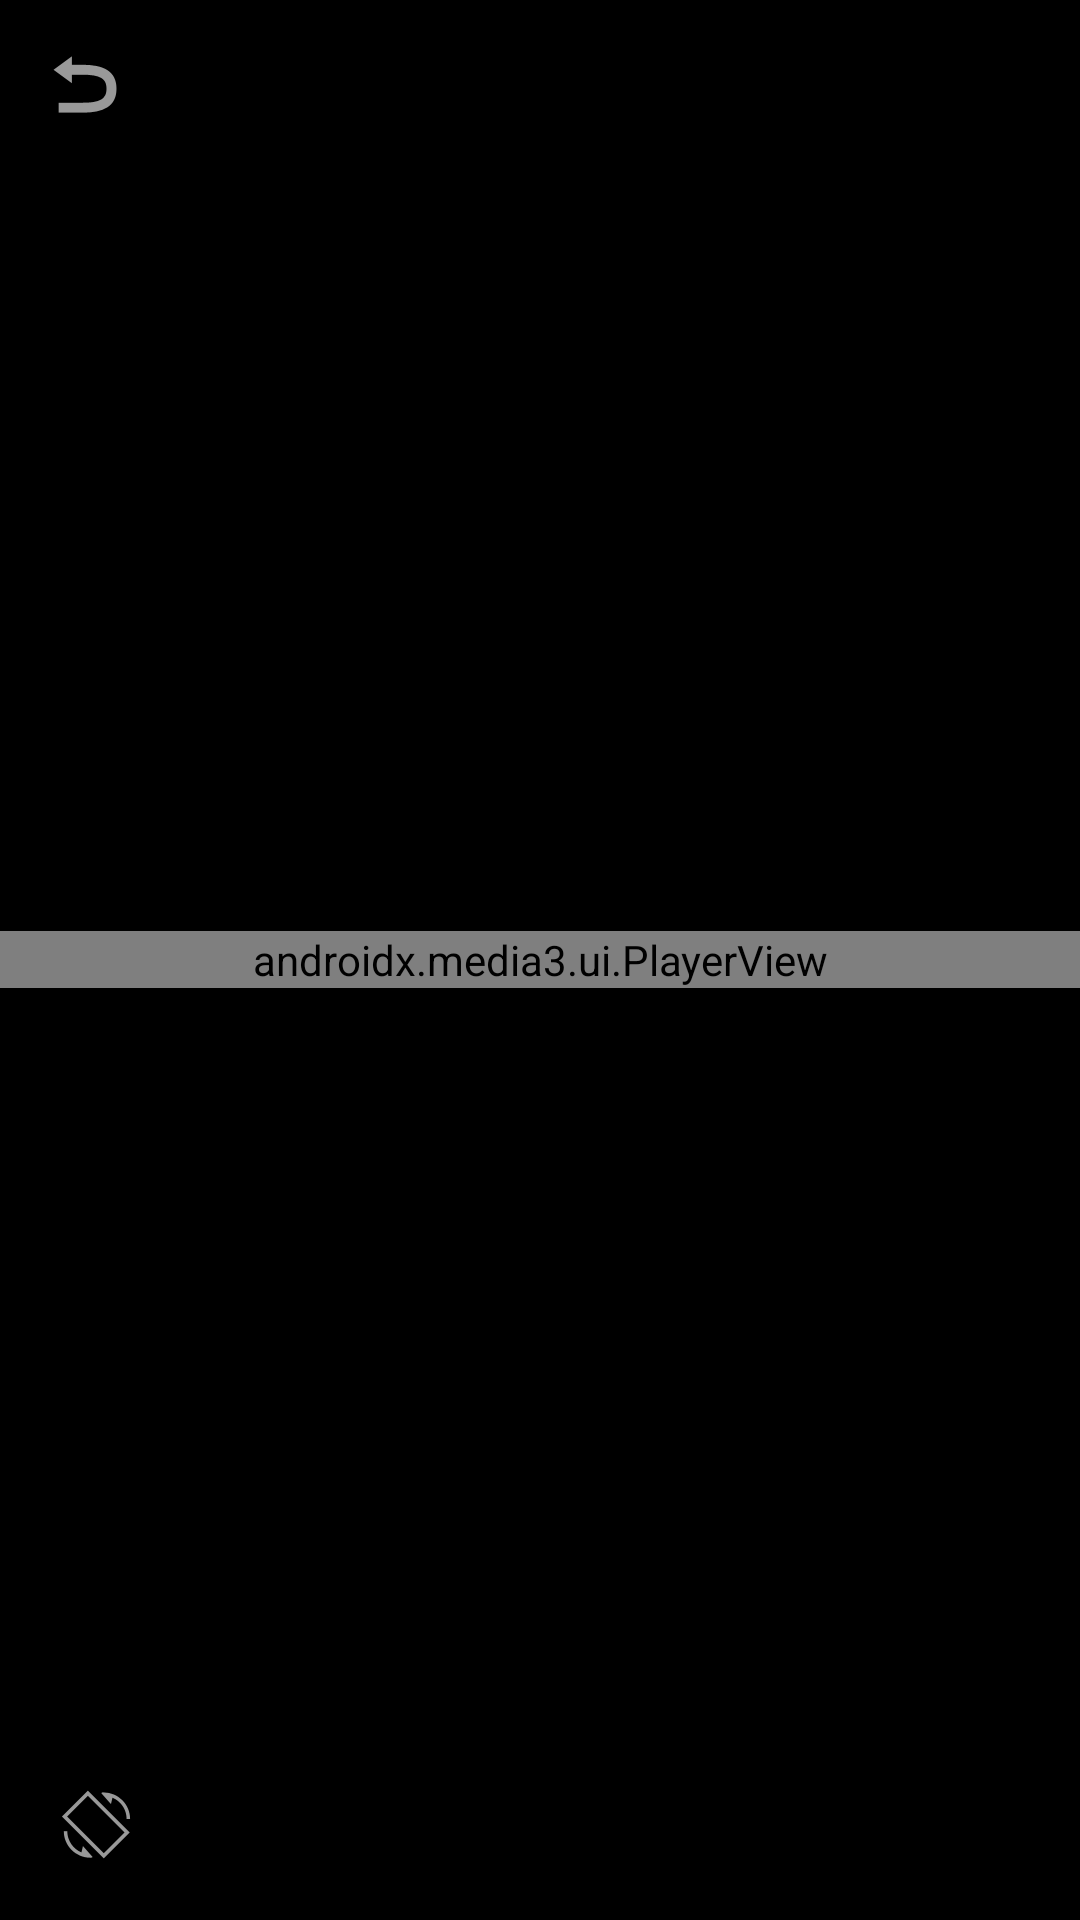

Point at icon controls on the screen. Image size 1080w x 1920h, points as [x,y].
全屏切换: [96,1824]
返回: [85,84]
